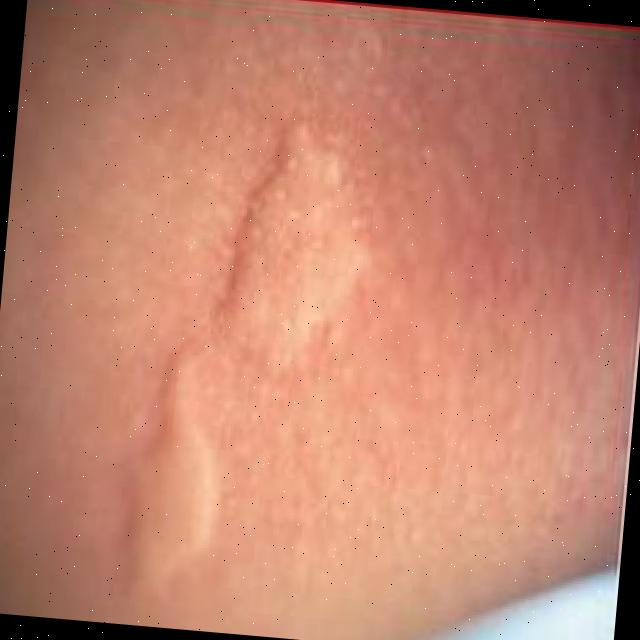sinek: (199, 95, 448, 386), (117, 339, 234, 593)
